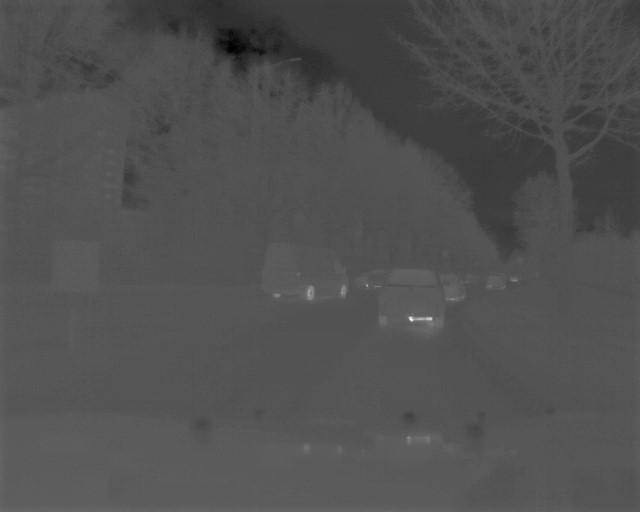car: (262, 238, 352, 301), (375, 265, 447, 328), (440, 269, 466, 307)
